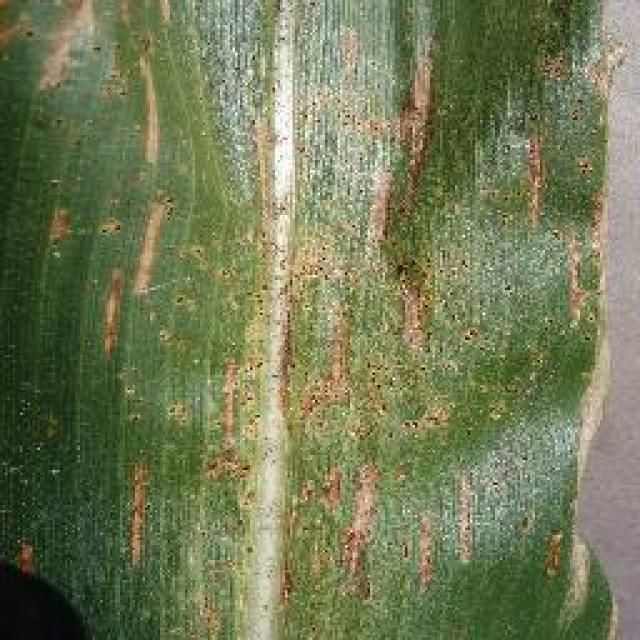Corn___Cercospora_leaf_spot Gray_leaf_spot: (5, 10, 635, 640)
